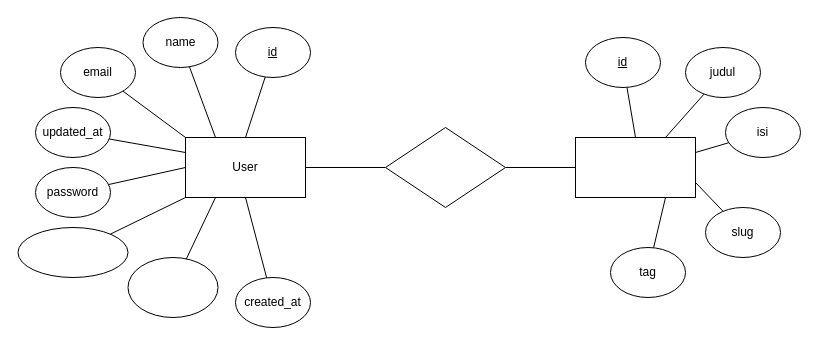
Some shapes in this 818 by 345 pixel diagram are drawn without their labels. Here are the shapes that lost their labels. From the top down, the centre of each, then its label:
At (x=445, y=167): "membuat".
At (x=635, y=167): "Artikel".
At (x=72, y=252): "email_verified_at".
At (x=172, y=287): "remember_token".
